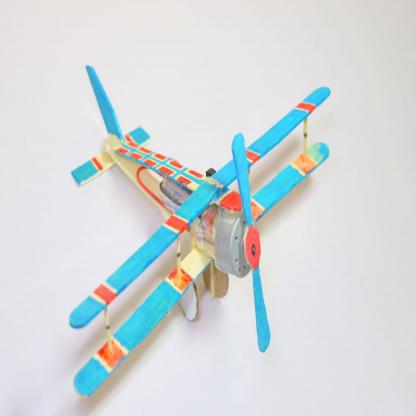CIV_Plane: (69, 59, 332, 401)
